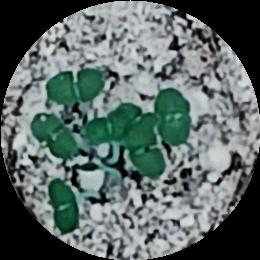Basil: (47, 70, 104, 105), (33, 116, 80, 158), (127, 127, 163, 180), (157, 90, 191, 145), (49, 180, 80, 234), (123, 99, 163, 130), (88, 113, 124, 142)
